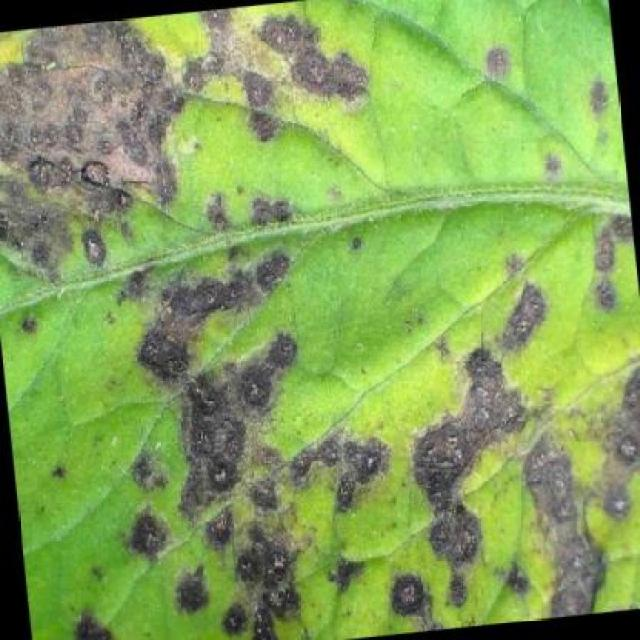Septoria leaf spot: (1, 1, 639, 639)
